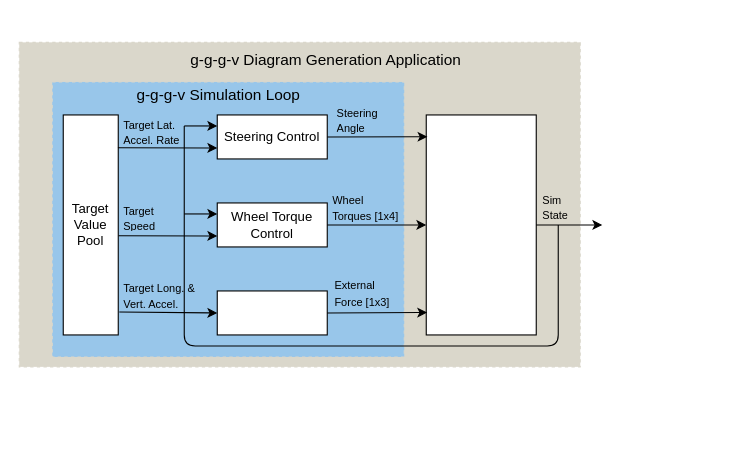
Some shapes in this 732 by 464 pixel diagram are drawn without their labels. Each missing label, with the box of its shape:
External Force: (216, 290, 327, 335)
Vehicle Dynamics Model: (425, 114, 536, 335)
